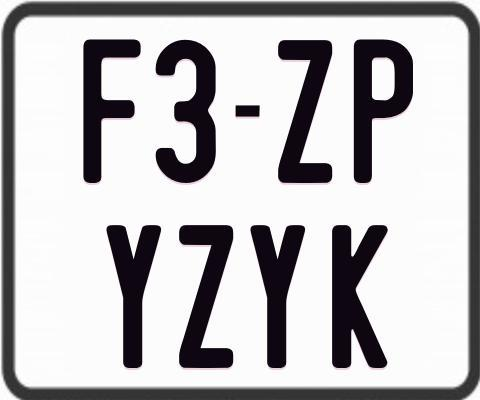3: (154, 38, 215, 186)
F: (80, 39, 144, 183)
K: (332, 224, 391, 372)
P: (351, 39, 410, 183)
Y: (251, 225, 311, 369), (107, 222, 165, 368)
Z: (278, 39, 336, 184), (177, 224, 231, 369)
